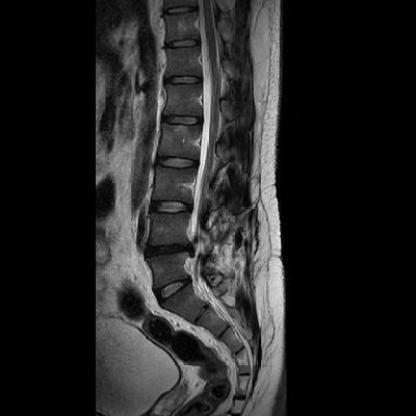Disc Bulgerotation: (144, 241, 195, 261)
